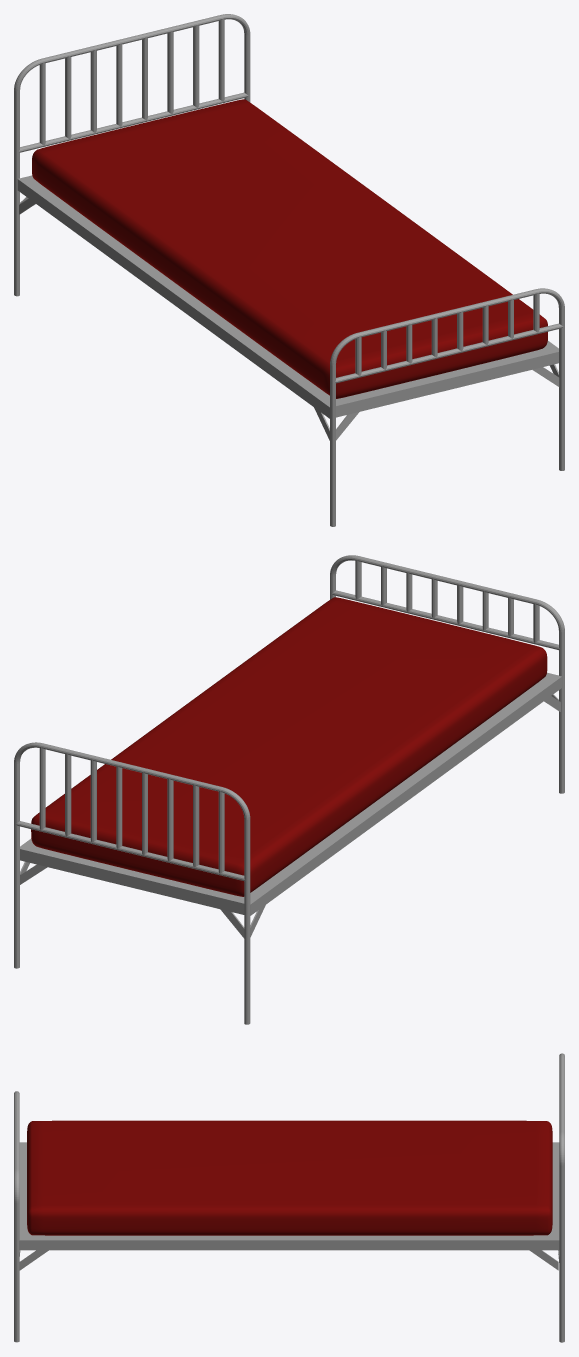
File: Bed.fbx
3 renders of one model, top to bottom at view 1: azimuth 30°, elevation 25°; view 2: azimuth 150°, elevation 25°; view 3: azimuth 270°, elevation 25°, orthographic. The views are drawn at different scales.
Visible parts, largest first — view 1: Bed, Steel.004; view 2: Bed, Steel.004; view 3: Bed, Steel.004.
Boxes of the visible parts, <box> form: Bed: <box>32,99,547,398</box>; Steel.004: <box>14,14,564,526</box>; Bed: <box>31,597,547,896</box>; Steel.004: <box>14,555,564,1024</box>; Bed: <box>27,1120,552,1235</box>; Steel.004: <box>14,1053,564,1342</box>.
Size of the model in its own units: 150 by 140 by 351.
